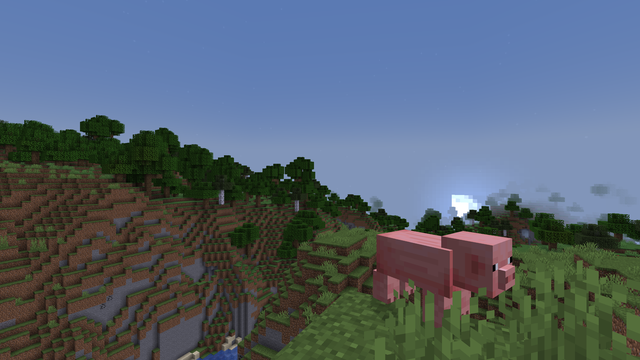cochons: (377, 227, 463, 335)
